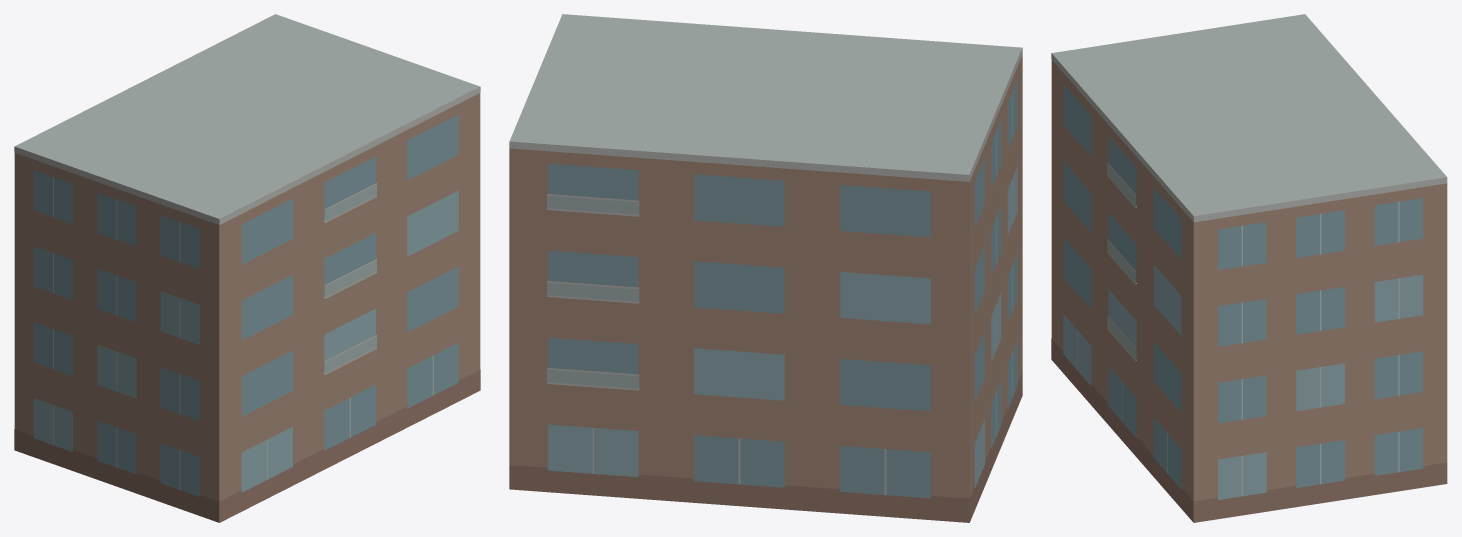
Rendered from survey-upis-32783097.glb.
The picture shows the model from 3 angles, left to right: view 1: azimuth 30°, elevation 25°; view 2: azimuth 150°, elevation 25°; view 3: azimuth 270°, elevation 25°; orthographic projection. The views are drawn at different scales.
Visible parts, largest first — view 1: survey-upis-32783097.tmp; view 2: survey-upis-32783097.tmp; view 3: survey-upis-32783097.tmp.
Part boxes in pixels (x1,y1,x2,y2): survey-upis-32783097.tmp: [14, 14, 480, 522]; survey-upis-32783097.tmp: [509, 14, 1022, 522]; survey-upis-32783097.tmp: [1051, 14, 1447, 522].
Size of the model in its own units: 17.27 by 12.2 by 14.28.
